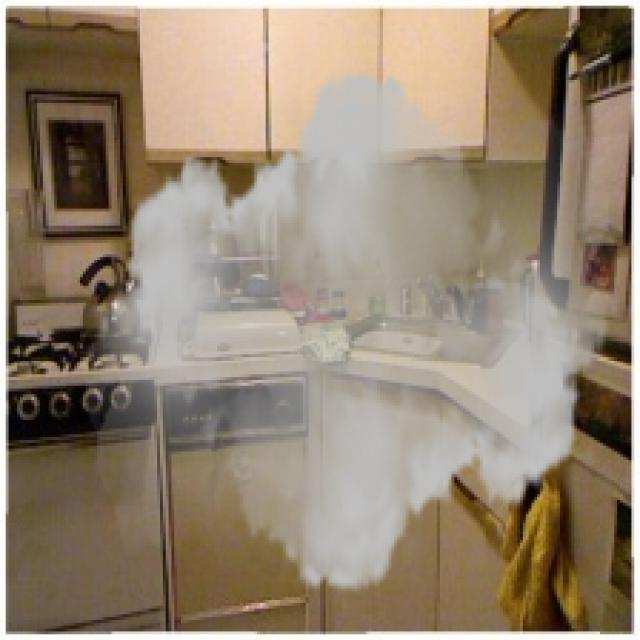smoke: (86, 49, 620, 614)
